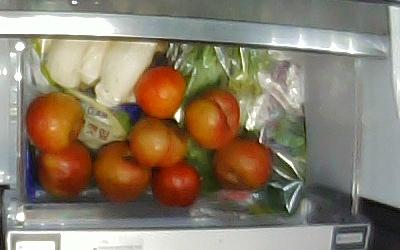prune: (34, 141, 94, 201), (94, 139, 151, 202), (27, 94, 84, 153), (127, 116, 185, 168), (188, 90, 240, 148), (213, 139, 271, 191), (134, 67, 186, 118), (151, 160, 201, 206)
